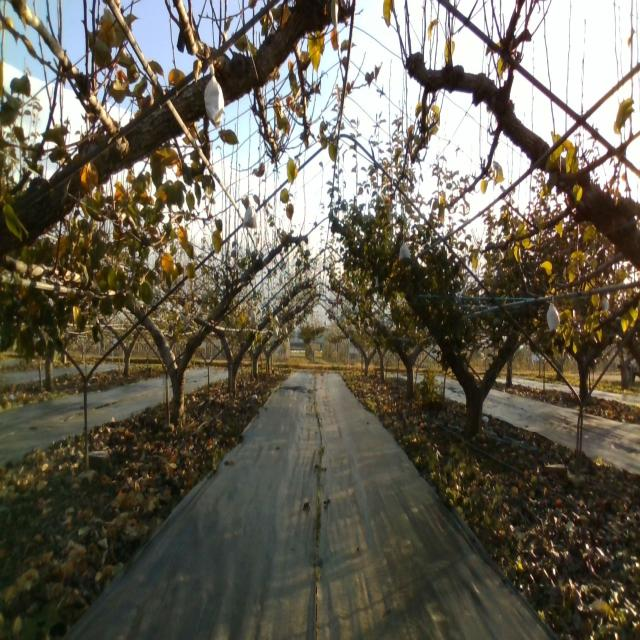pearbags: (205, 64, 226, 129), (546, 302, 560, 332), (242, 205, 258, 228), (398, 240, 412, 261)
